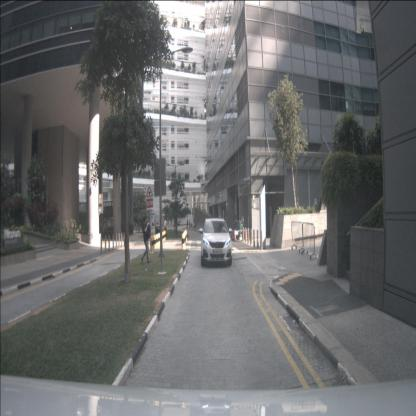cone: (233, 230, 237, 242), (245, 228, 248, 242), (230, 230, 233, 242)
